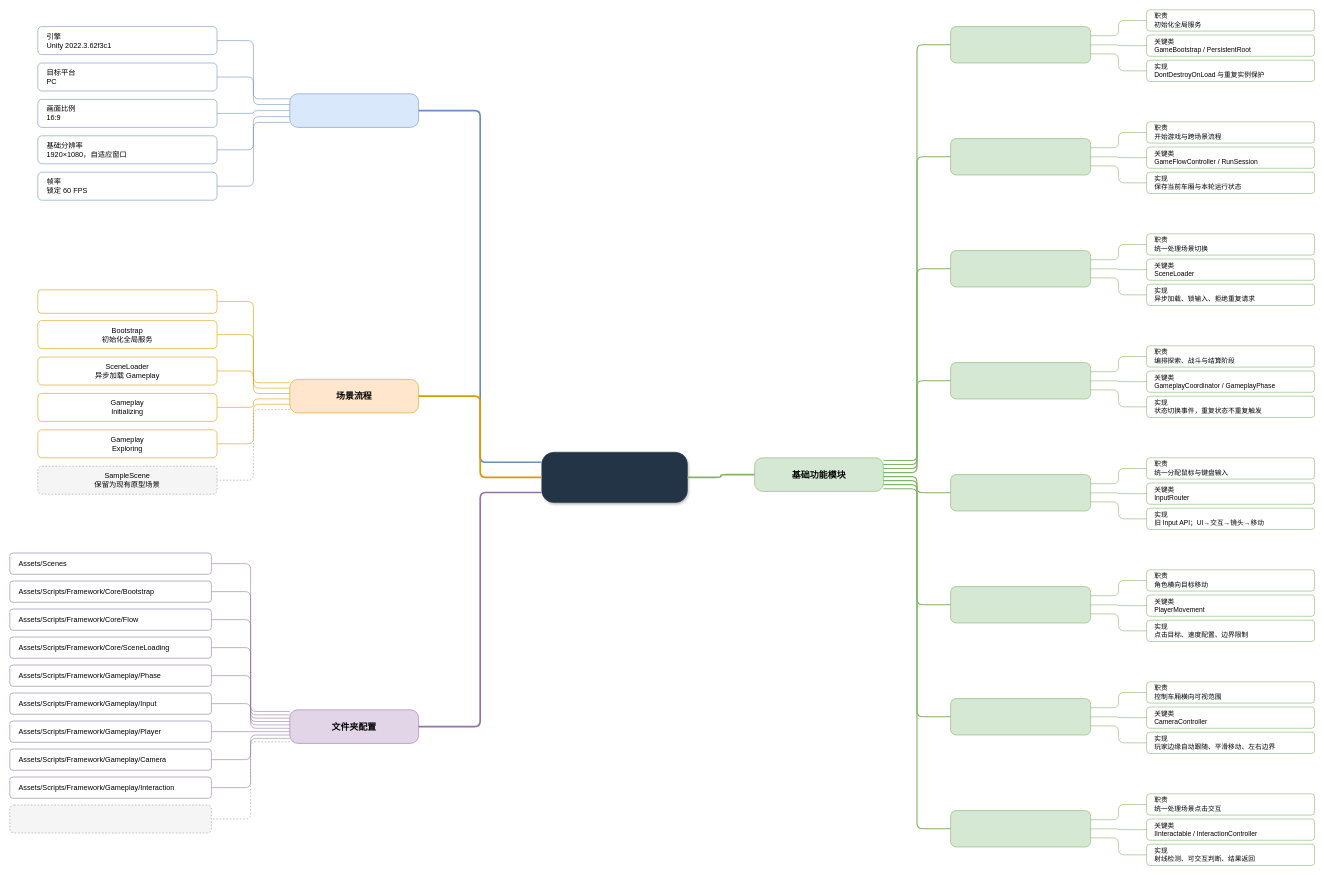
Some shapes in this 1324 by 875 pixel diagram are drawn without their labels. The centre of each missing label's shape, as x and y in pixels:
1 启动系统: the point at 1020,44
10 镜头系统: the point at 1020,716
11 场景交互系统: the point at 1020,828
2 游戏总流程系统: the point at 1020,156
3 场景加载系统: the point at 1020,268
4 玩法阶段状态机: the point at 1020,380
6 输入路由系统: the point at 1020,492
7 玩家移动系统: the point at 1020,604
其余系统目录 仅创建文件夹与 .meta: the point at 110,818
启动游戏: the point at 127,301
基础环境: the point at 354,110
聚光灯程序框架: the point at 615,478
